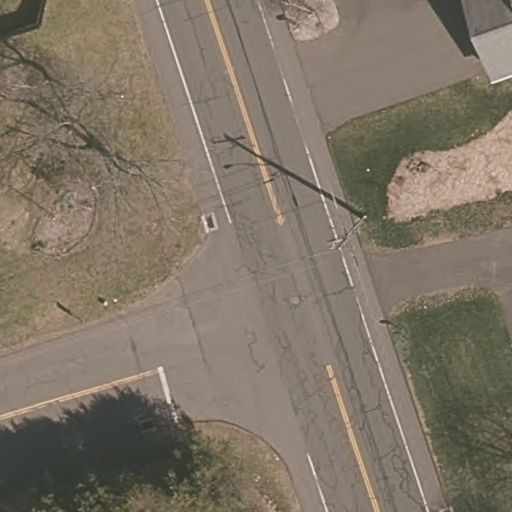DT: (318, 208, 373, 259)
